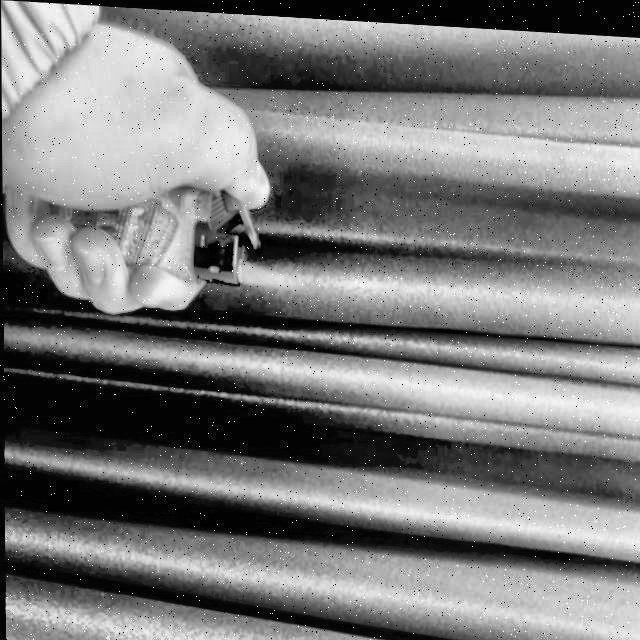Fire: (237, 258, 299, 289)
